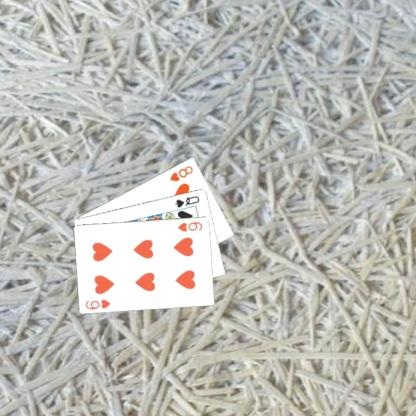6H: (175, 218, 204, 233), (82, 296, 112, 310)
8H: (167, 163, 194, 182)
QS: (172, 193, 200, 209)
